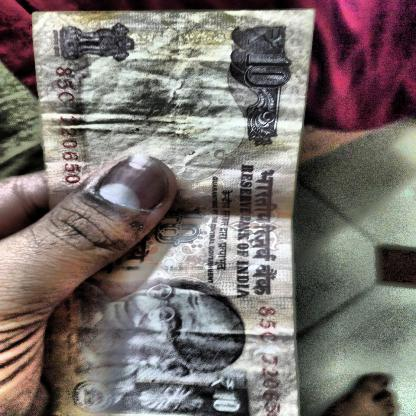Rs10: (239, 25, 294, 91)
